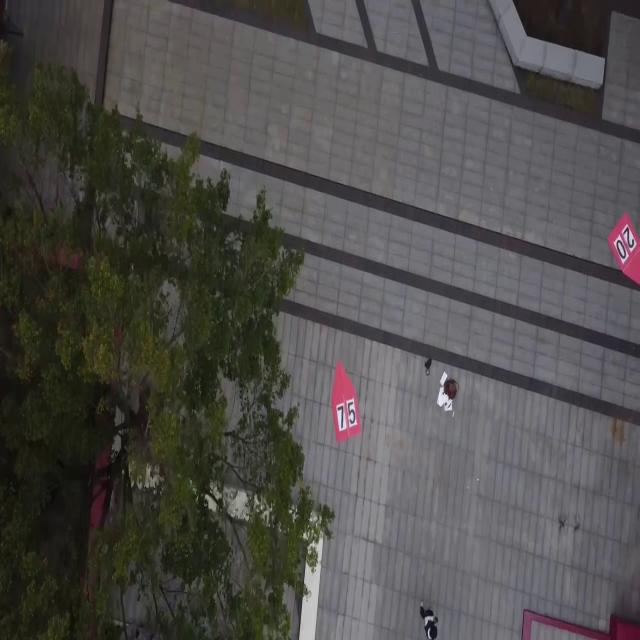-sign-: (519, 608, 627, 640), (331, 359, 362, 444), (606, 210, 640, 286)
